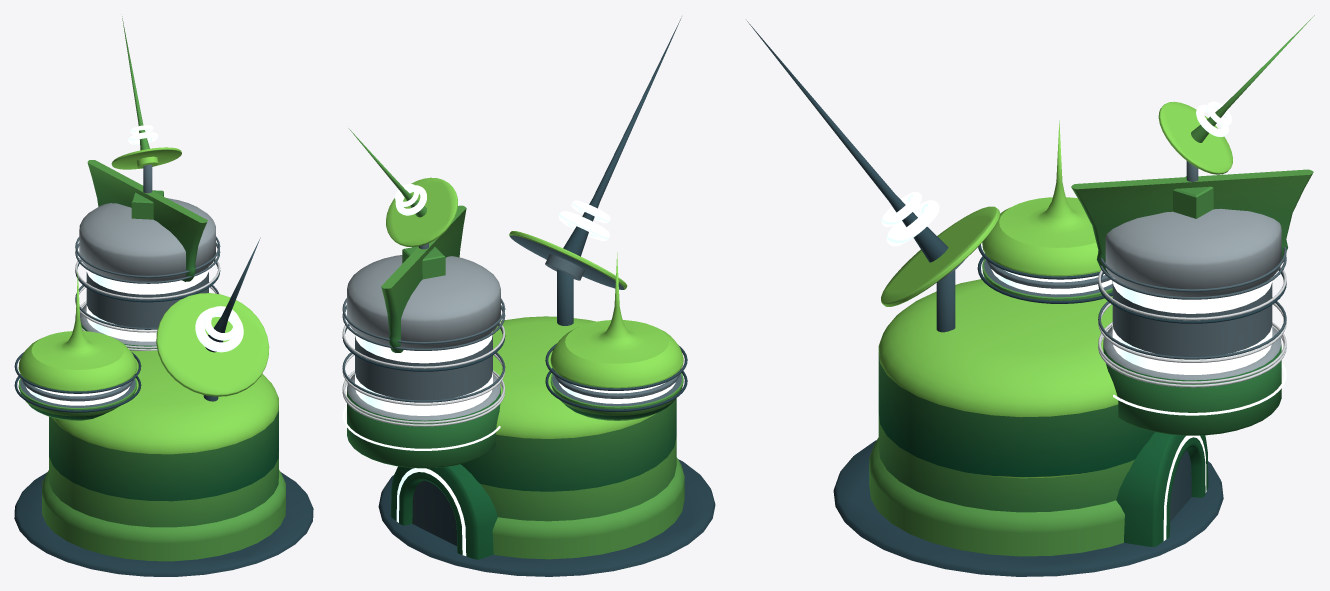
File: ScifiStation2.glb
3 renders of one model, left to right at view 1: azimuth 30°, elevation 25°; view 2: azimuth 150°, elevation 25°; view 3: azimuth 270°, elevation 25°, orthographic. The views are drawn at different scales.
Visible parts, largest first — view 1: MainBuilding, TallStructure1, ShortStructure1, BigSatelite, LightTallStructure1, SmallSatelite, LightBigSatelite, LightShortStructure1, LightSmallSatelite; view 2: MainBuilding, TallStructure1, ShortStructure1, MainDoor, BigSatelite, LightTallStructure1, SmallSatelite, LightBigSatelite, LightShortStructure1, LightSmallSatelite, LightMainDoor; view 3: MainBuilding, TallStructure1, ShortStructure1, BigSatelite, MainDoor, LightTallStructure1, SmallSatelite, LightBigSatelite, LightShortStructure1, LightSmallSatelite.
Boxes of the visible parts, x1,y1,x2,y2 form: MainBuilding: [14, 350, 313, 576]; TallStructure1: [75, 160, 220, 350]; ShortStructure1: [14, 272, 141, 420]; BigSatelite: [156, 237, 269, 401]; LightTallStructure1: [86, 269, 208, 341]; SmallSatelite: [111, 16, 181, 193]; LightBigSatelite: [195, 306, 243, 352]; LightShortStructure1: [26, 386, 129, 405]; LightSmallSatelite: [128, 125, 158, 144]; MainBuilding: [378, 316, 715, 576]; TallStructure1: [342, 205, 505, 468]; ShortStructure1: [545, 252, 687, 420]; MainDoor: [390, 464, 497, 559]; BigSatelite: [509, 18, 681, 325]; LightTallStructure1: [342, 331, 500, 450]; SmallSatelite: [348, 128, 457, 249]; LightBigSatelite: [558, 200, 610, 241]; LightShortStructure1: [559, 382, 675, 403]; LightSmallSatelite: [395, 183, 426, 215]; LightMainDoor: [396, 468, 466, 555]; MainBuilding: [833, 279, 1223, 576]; TallStructure1: [1071, 169, 1313, 435]; ShortStructure1: [977, 120, 1112, 303]; BigSatelite: [747, 21, 999, 332]; MainDoor: [1116, 432, 1208, 546]; LightTallStructure1: [1112, 278, 1286, 415]; SmallSatelite: [1158, 15, 1314, 181]; LightBigSatelite: [881, 191, 939, 246]; LightShortStructure1: [991, 269, 1112, 294]; LightSmallSatelite: [1196, 101, 1231, 136].
Bounding box in the file's own units: 2.7 × 4 × 3.96.
2 materials, 1 textured.
